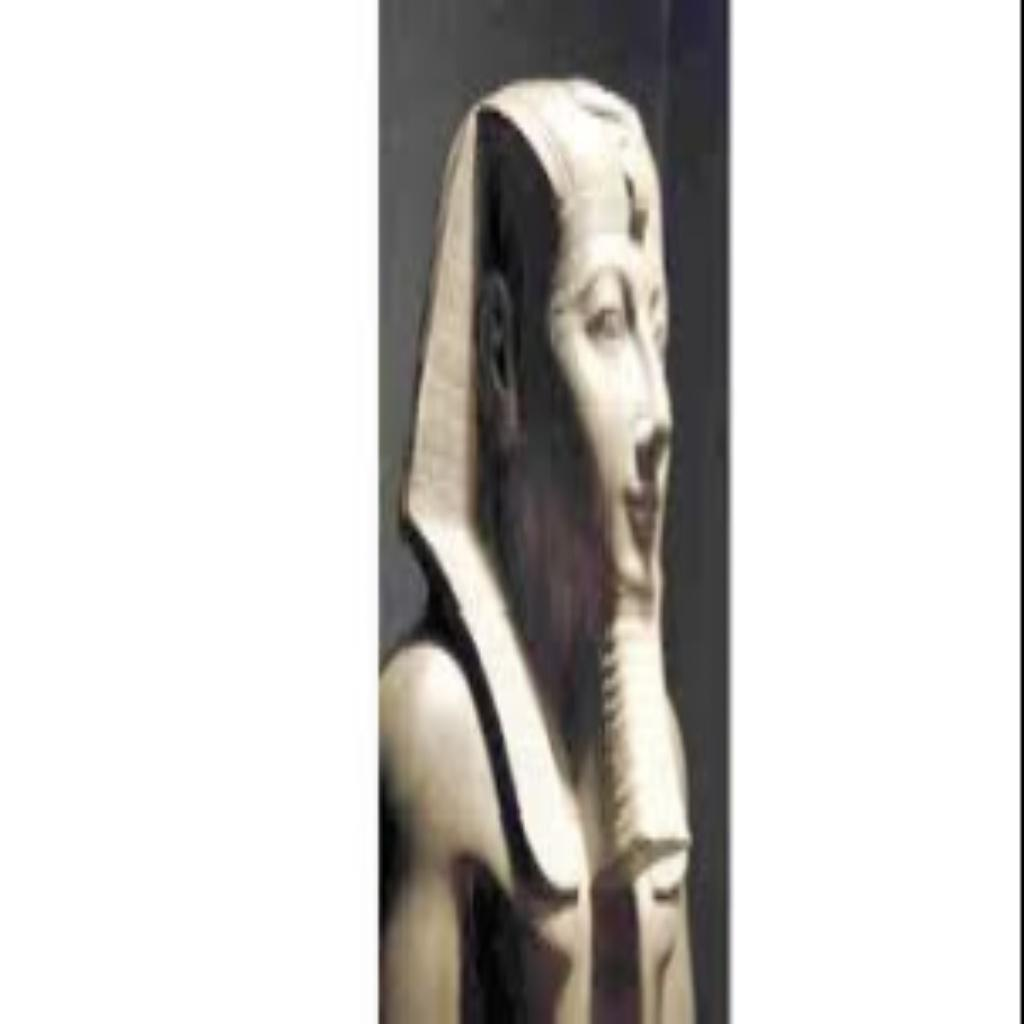King Thutmose III: (376, 74, 700, 1018)
